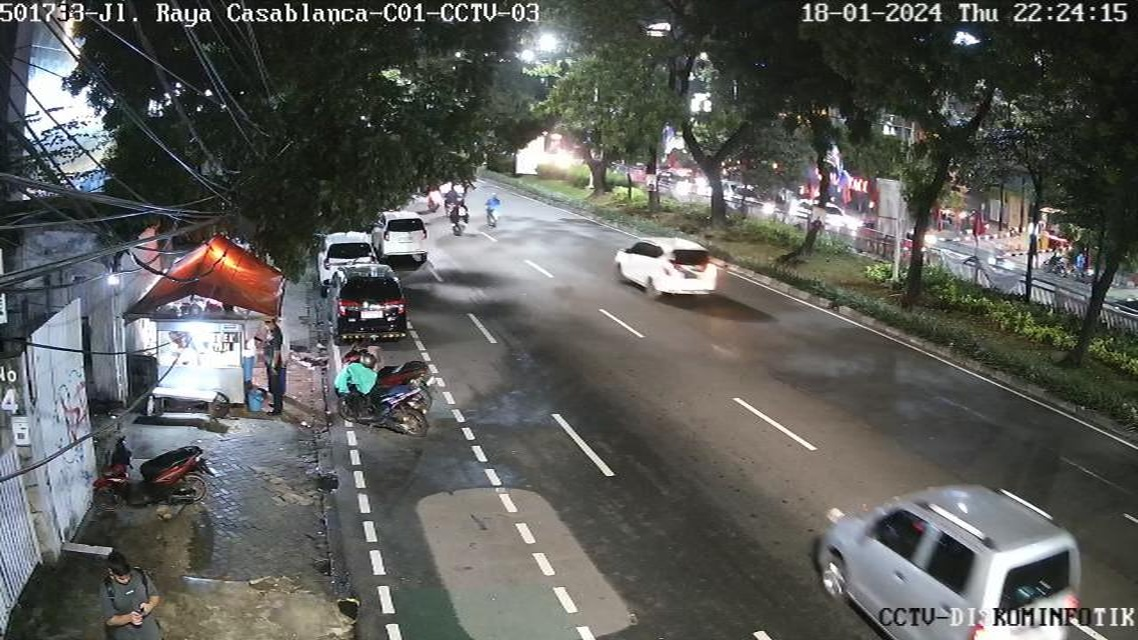Gerobak: (144, 311, 270, 408)
